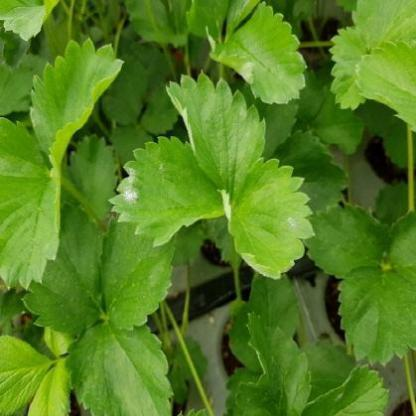Strawberry_Powdery_Mildew_Leaf: (107, 134, 226, 248), (165, 68, 268, 196), (216, 155, 316, 280), (204, 1, 310, 104)
